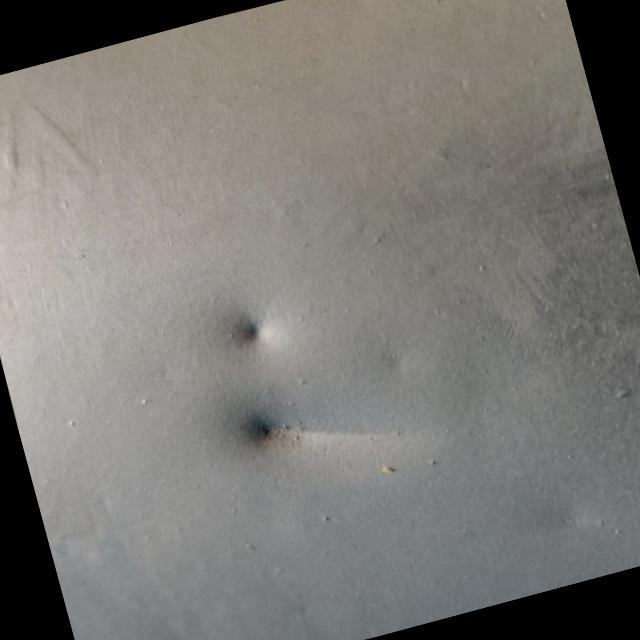dent: (213, 361, 382, 488), (199, 277, 296, 377)
